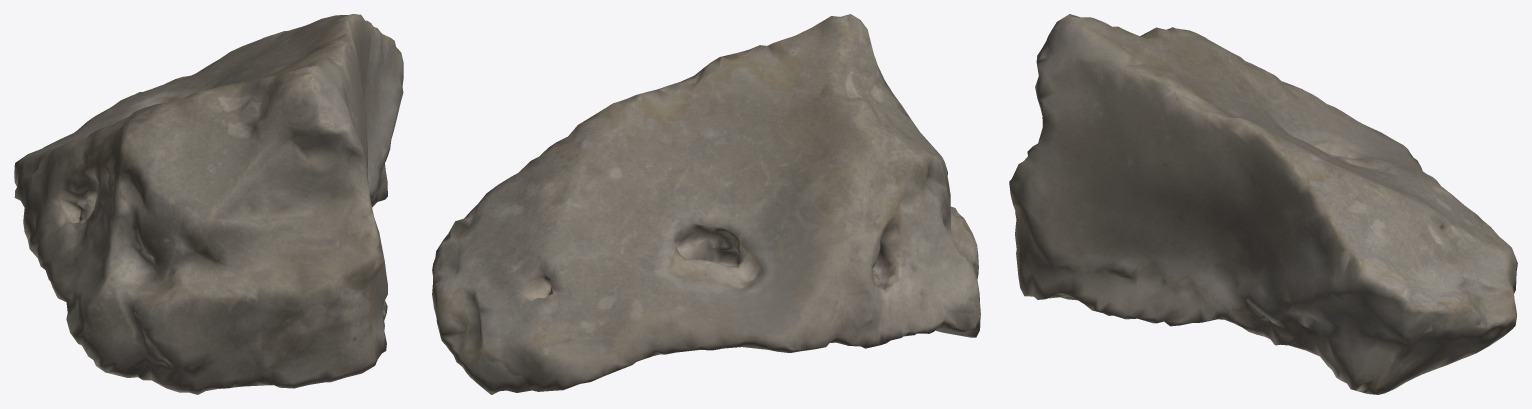
The model's file is moon_rock_06.glb.
3 views of the same model, side by side, from view 1: azimuth 30°, elevation 25°; view 2: azimuth 150°, elevation 25°; view 3: azimuth 270°, elevation 25° (orthographic). The views are drawn at different scales.
Visible parts, largest first — view 1: moon_rock_06_LOD0; view 2: moon_rock_06_LOD0; view 3: moon_rock_06_LOD0.
Part boxes in pixels (x1,y1,x2,y2): moon_rock_06_LOD0: (14, 14, 403, 394); moon_rock_06_LOD0: (432, 14, 980, 394); moon_rock_06_LOD0: (1009, 14, 1517, 394).
Size of the model in its own units: 0.0857 by 0.055 by 0.0918.
Materials: 1 (1 with a texture image).
